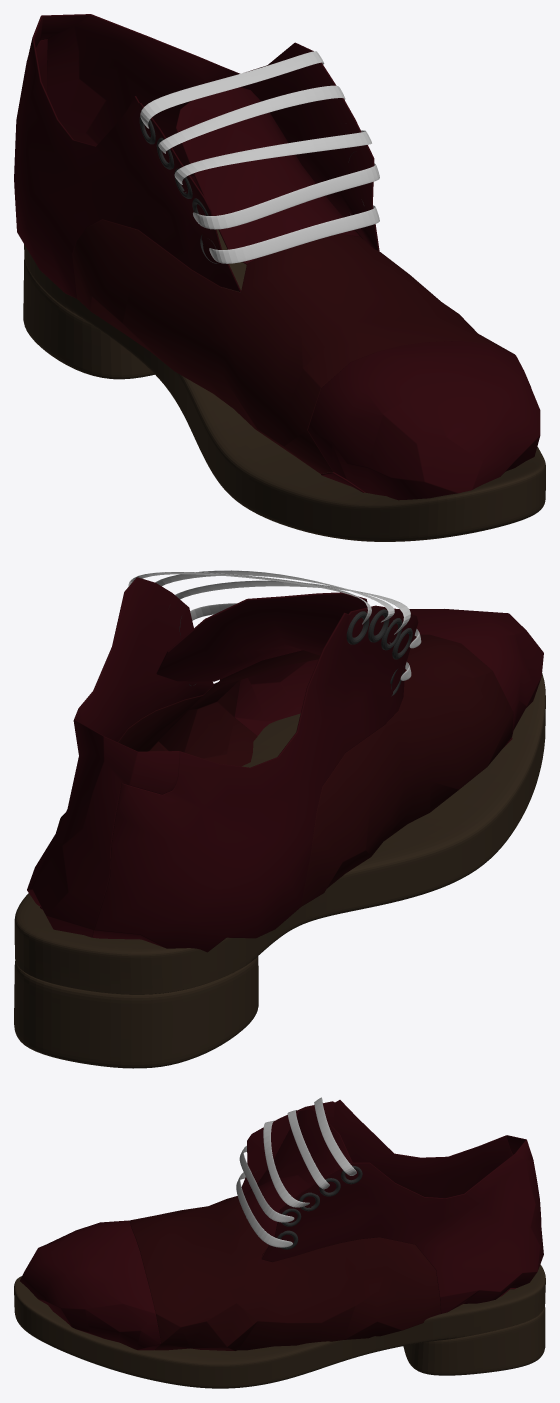
File: za1in2izquierda.fbx
The picture shows the model from 3 angles, top to bottom: view 1: azimuth 30°, elevation 25°; view 2: azimuth 150°, elevation 25°; view 3: azimuth 270°, elevation 25°; orthographic projection. The views are drawn at different scales.
Visible parts, largest first — view 1: ZAPATO1_3, Plane, Plane.002, Plane.004, Plane.005, Plane.001, Plane.003; view 2: ZAPATO1_3, Plane, Plane.001, Plane.003, Plane.004; view 3: ZAPATO1_3, Plane, Plane.001, Plane.004, Plane.003, Plane.005, Plane.002.
Part boxes in pixels (x1,y1,x2,y2): ZAPATO1_3: (14,14,540,500); Plane: (23,229,545,541); Plane.002: (193,163,379,229); Plane.004: (140,51,324,128); Plane.005: (209,205,379,263); Plane.001: (174,130,371,184); Plane.003: (158,85,345,153); ZAPATO1_3: (27,577,543,952); Plane: (14,673,545,1068); Plane.001: (175,580,410,634); Plane.003: (155,570,394,622); Plane.004: (128,572,371,624); ZAPATO1_3: (20,1100,543,1350); Plane: (14,1264,545,1388); Plane.001: (263,1120,309,1207); Plane.004: (314,1097,356,1175); Plane.003: (287,1110,329,1189); Plane.005: (236,1172,292,1247); Plane.002: (239,1145,294,1222).
Size of the model in its own units: 174 by 204 by 447.
